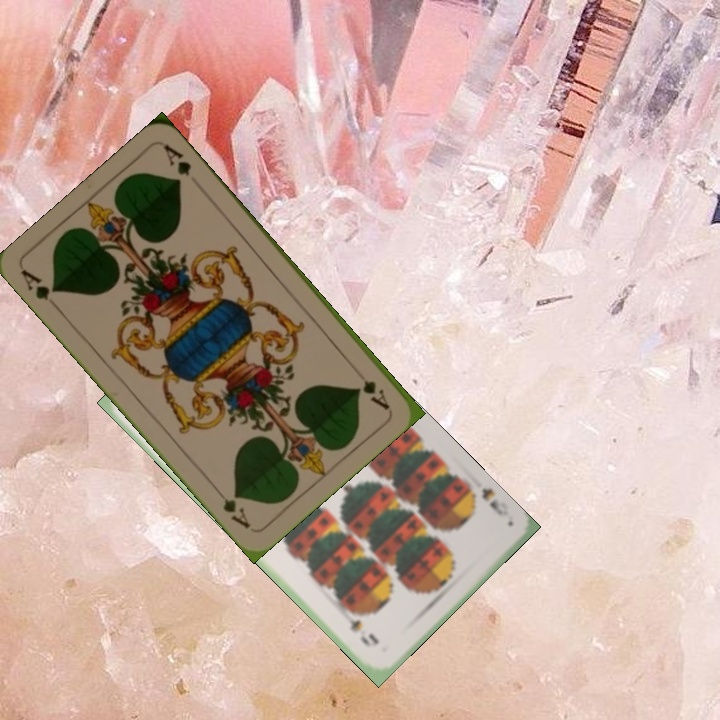GA: (17, 266, 63, 314), (358, 376, 392, 412)
S9: (461, 478, 511, 519)
